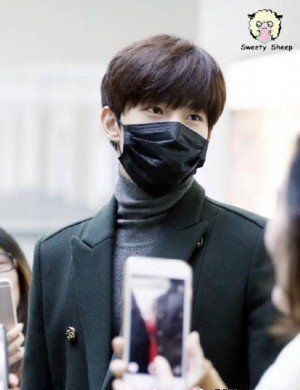face_mask: (123, 98, 208, 191)
